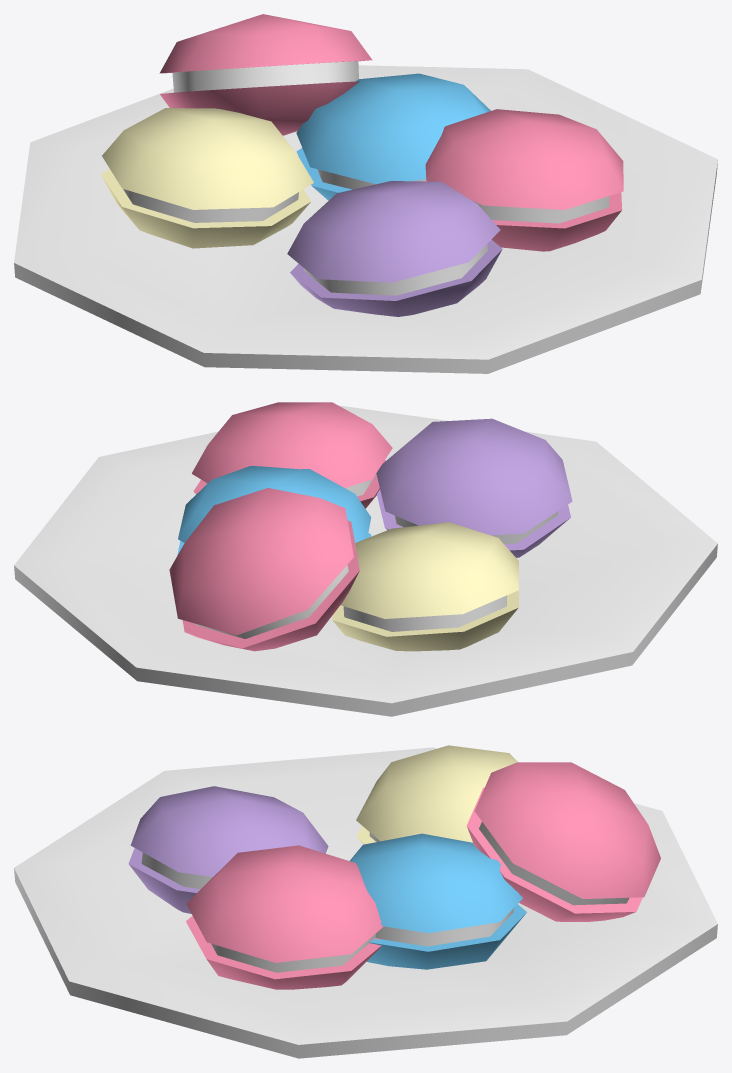
File: Comida.obj
3 views of the same model, one above another, from view 1: azimuth 30°, elevation 25°; view 2: azimuth 150°, elevation 25°; view 3: azimuth 270°, elevation 25° (orthographic). The views are drawn at different scales.
Visible parts, largest first — view 1: dish_001; view 2: dish_001; view 3: dish_001.
Part boxes in pixels (bbox=[...]): dish_001: bbox=[14, 14, 717, 373]; dish_001: bbox=[14, 402, 717, 716]; dish_001: bbox=[14, 745, 717, 1058].
Bounding box in the file's own units: 4.07 × 1.02 × 4.07.
Materials: 1 (1 with a texture image).
